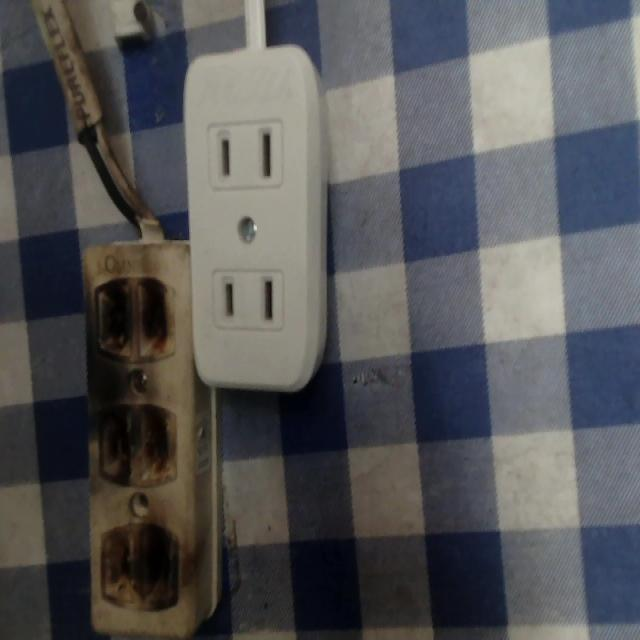-: (97, 519, 180, 612), (89, 273, 177, 360), (93, 398, 176, 486)
